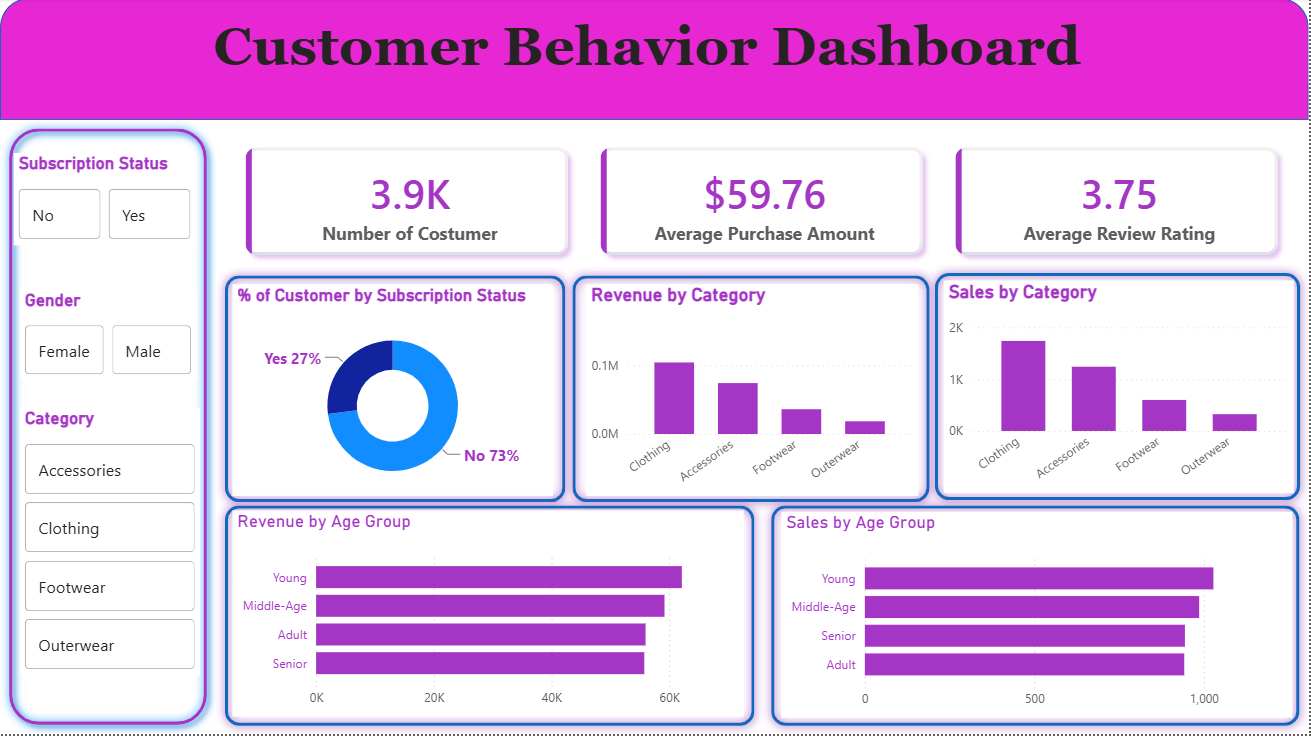

Layout of this report page (visuals, bound fields, positions):
{"tool":"powerbi","page":{"name":"Page 1","canvas":[1280,720],"ordinal":0},"visuals":[{"type":"cardVisual","fields":{"Data":["customer_behaviour customer_1.Number of Costumer","customer_behaviour customer_1.Average Purchase Amount","customer_behaviour customer_1.Average Review Rating"]},"box":[211.2,117.5,1068.8,163.8],"z":0},{"type":"shape","box":[0,0,1280.3,119.4],"z":1000},{"type":"textbox","box":[0,12.2,1280.3,97.4],"z":2000},{"type":"shape","box":[211.6,262.6,350,238.8],"z":3000},{"type":"donutChart","title":"% of Customer by Subscription Status","fields":{"Category":["customer_behaviour customer_1.subscription_status"],"Y":["CountNonNull(customer_behaviour customer_1.customer_id)"]},"box":[227.9,280.1,313.8,207.5],"z":4000},{"type":"shape","box":[551.6,262.6,366.2,238.8],"z":5000},{"type":"shape","box":[906.1,260.2,374.3,239.2],"z":6000},{"type":"clusteredColumnChart","title":"Revenue by Category","fields":{"Y":["Sum(customer_behaviour customer_1.purchase_amount)"],"Category":["customer_behaviour customer_1.category"]},"box":[574.1,280.1,325,207.5],"z":7000},{"type":"clusteredColumnChart","title":"Sales by Category","fields":{"Y":["CountNonNull(customer_behaviour customer_1.customer_id)"],"Category":["customer_behaviour customer_1.category"]},"box":[923.7,276.3,342.1,208.2],"z":8000},{"type":"shape","box":[0,118.8,211.2,601.2],"z":9000},{"type":"advancedSlicerVisual","title":"Subscription Status","fields":{"Values":["customer_behaviour customer_1.subscription_status"]},"box":[13.8,151.2,178.8,90],"z":10000},{"type":"advancedSlicerVisual","title":"Gender","fields":{"Values":["customer_behaviour customer_1.gender"]},"box":[20,285,172.5,88.8],"z":11000},{"type":"advancedSlicerVisual","title":"Category","fields":{"Values":["customer_behaviour customer_1.category"]},"box":[20,401.2,176.2,261.2],"z":12000},{"type":"shape","box":[211.2,487.5,535,232.5],"z":13000},{"type":"clusteredBarChart","title":"Revenue by Age Group","fields":{"Category":["customer_behaviour customer_1.age_group"],"Y":["Sum(customer_behaviour customer_1.purchase_amount)"]},"box":[227.5,501.2,500,201.2],"z":14000},{"type":"shape","box":[746.2,487.5,533.8,232.5],"z":15000},{"type":"clusteredBarChart","title":"Sales by Age Group","fields":{"Y":["CountNonNull(customer_behaviour customer_1.customer_id)"],"Category":["customer_behaviour customer_1.age_group"]},"box":[763.8,502.5,500,201.2],"z":15001}]}

Visuals, with their boxes in screenshot pixels (x1, y1, x2, y2), scaled from the page's 1280x720 canvas onto the 1311x736 screenshot:
cardVisual - customer_behaviour customer_1.Number of Costumer x customer_behaviour customer_1.Average Purchase Amount: rect(216, 120, 1310, 288)
shape: rect(0, 0, 1310, 122)
textbox: rect(0, 12, 1310, 112)
shape: rect(217, 268, 575, 513)
"% of Customer by Subscription Status" donutChart: rect(233, 286, 555, 498)
shape: rect(565, 268, 940, 513)
shape: rect(928, 266, 1310, 510)
"Revenue by Category" clusteredColumnChart: rect(588, 286, 921, 498)
"Sales by Category" clusteredColumnChart: rect(946, 282, 1296, 495)
shape: rect(0, 121, 216, 735)
"Subscription Status" advancedSlicerVisual: rect(14, 155, 197, 247)
"Gender" advancedSlicerVisual: rect(20, 291, 197, 382)
"Category" advancedSlicerVisual: rect(20, 410, 201, 677)
shape: rect(216, 498, 764, 735)
"Revenue by Age Group" clusteredBarChart: rect(233, 512, 745, 718)
shape: rect(764, 498, 1310, 735)
"Sales by Age Group" clusteredBarChart: rect(782, 514, 1294, 719)
